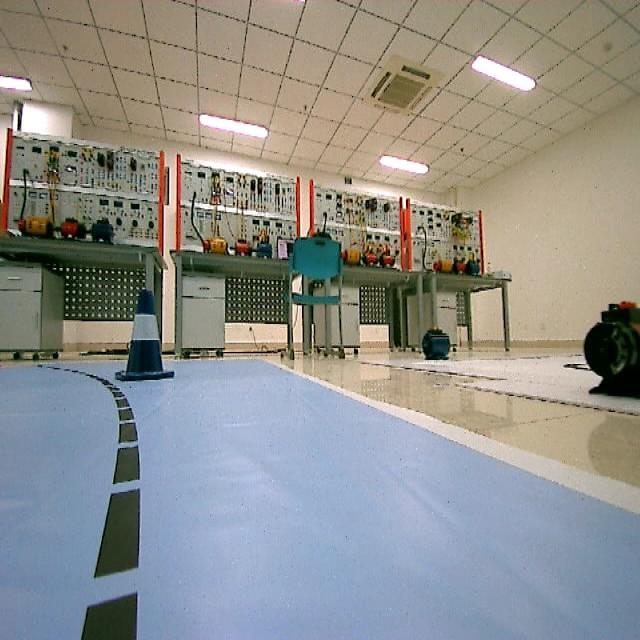obstacle: (115, 285, 179, 384)
